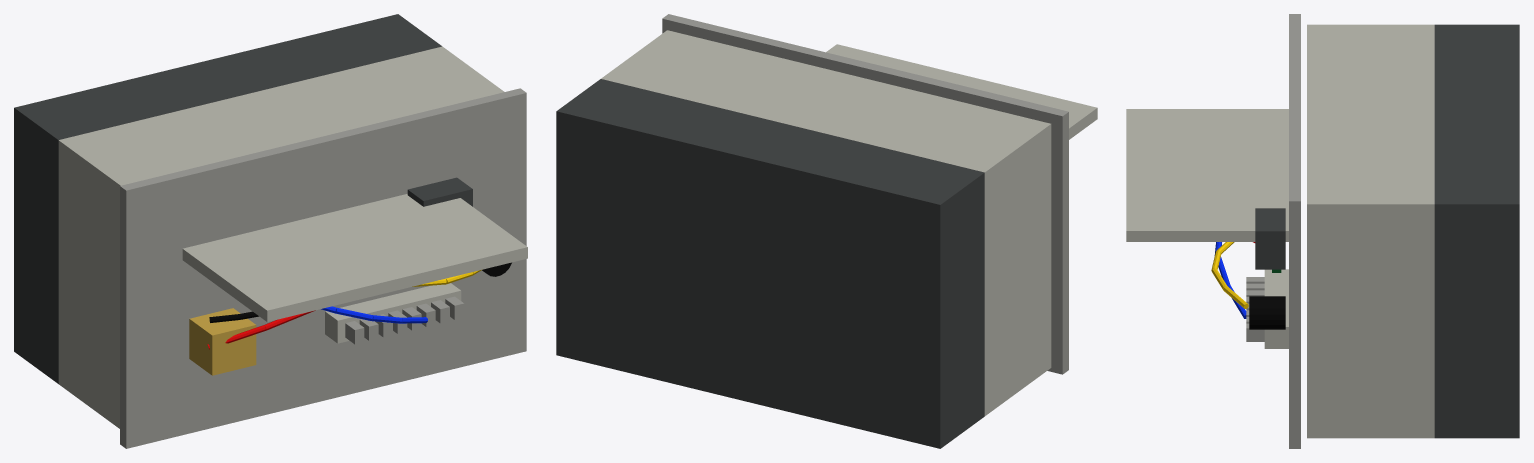
The model's file is 03_gray_control_box_with_ports.fbx.
3 views of the same model, side by side, from view 1: azimuth 30°, elevation 25°; view 2: azimuth 150°, elevation 25°; view 3: azimuth 270°, elevation 25° (orthographic). The views are drawn at different scales.
Visible parts, largest first — view 1: controlbox_top_lid, controlbox_upper_light_body, controlbox_lower_dark_body, controlbox_back_vertical_plate, controlbox_yellow_coil, controlbox_terminal_strip, controlbox_gray_relay; view 2: controlbox_lower_dark_body, controlbox_upper_light_body, controlbox_top_lid, controlbox_back_vertical_plate; view 3: controlbox_upper_light_body, controlbox_lower_dark_body, controlbox_back_vertical_plate, controlbox_top_lid, controlbox_gray_relay, controlbox_terminal_strip, controlbox_black_cap.
Boxes of the visible parts, x1=… form: controlbox_top_lid: x1=120, y1=88, x2=526, y2=448; controlbox_upper_light_body: x1=58, y1=46, x2=504, y2=428; controlbox_lower_dark_body: x1=14, y1=14, x2=441, y2=383; controlbox_back_vertical_plate: x1=182, y1=194, x2=527, y2=321; controlbox_yellow_coil: x1=189, y1=308, x2=256, y2=375; controlbox_terminal_strip: x1=325, y1=283, x2=461, y2=343; controlbox_gray_relay: x1=407, y1=177, x2=472, y2=206; controlbox_lower_dark_body: x1=556, y1=79, x2=984, y2=448; controlbox_upper_light_body: x1=601, y1=30, x2=1051, y2=416; controlbox_top_lid: x1=662, y1=14, x2=1068, y2=374; controlbox_back_vertical_plate: x1=826, y1=44, x2=1097, y2=139; controlbox_upper_light_body: x1=1307, y1=24, x2=1434, y2=438; controlbox_lower_dark_body: x1=1434, y1=24, x2=1519, y2=438; controlbox_back_vertical_plate: x1=1126, y1=109, x2=1288, y2=241; controlbox_top_lid: x1=1289, y1=14, x2=1300, y2=448; controlbox_gray_relay: x1=1255, y1=208, x2=1285, y2=269; controlbox_terminal_strip: x1=1264, y1=269, x2=1288, y2=348; controlbox_black_cap: x1=1249, y1=296, x2=1285, y2=329.
Size of the model in its own units: 1.46 by 0.91 by 1.29.
